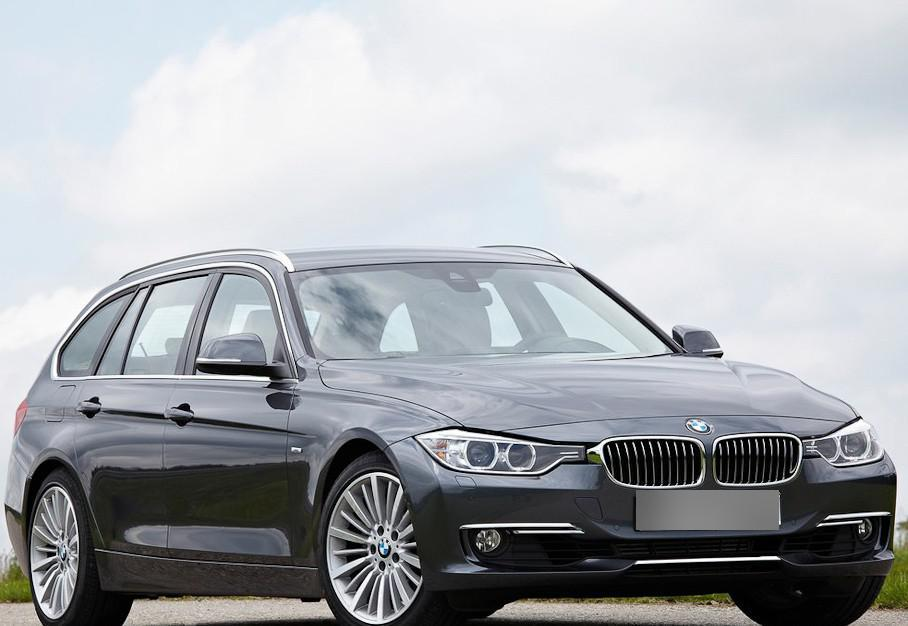Wagon: (6, 247, 896, 626)
